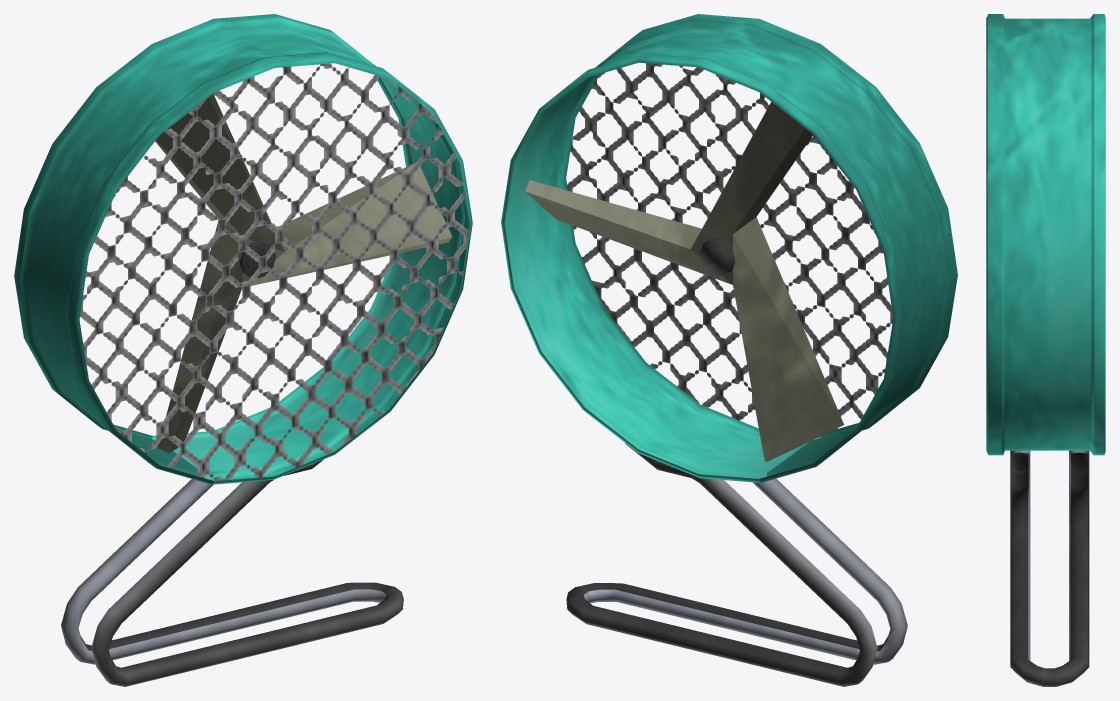
Rendered from fan1.fbx.
3 renders of one model, left to right at view 1: azimuth 30°, elevation 25°; view 2: azimuth 150°, elevation 25°; view 3: azimuth 270°, elevation 25°, orthographic. The views are drawn at different scales.
Visible parts, largest first — view 1: polySurface2, polySurface1; view 2: polySurface2, polySurface1; view 3: polySurface2.
Part boxes in pixels (box(x1,y1,x2,y2)): polySurface2: box(14, 14, 472, 686); polySurface1: box(155, 94, 452, 452); polySurface2: box(501, 14, 957, 686); polySurface1: box(525, 102, 843, 461); polySurface2: box(986, 14, 1105, 686).
Bounding box in the file's own units: 42.74 × 61.68 × 11.49.
